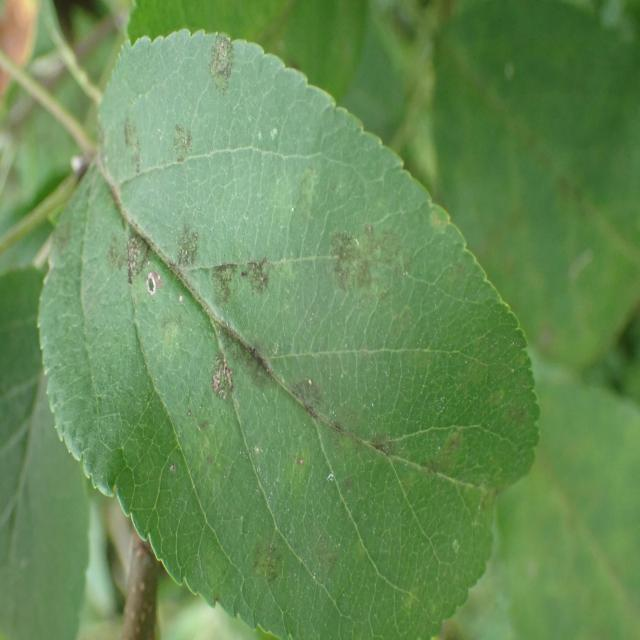scab: (21, 14, 542, 634)
